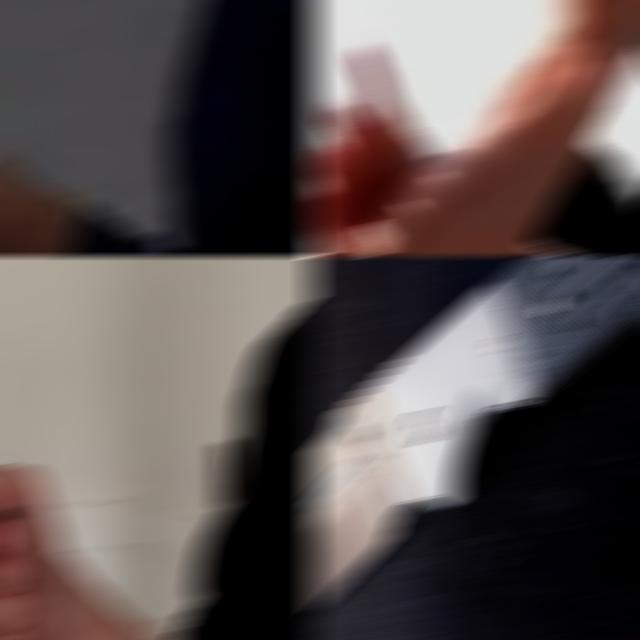Knife_Handle: (0, 257, 82, 639)
